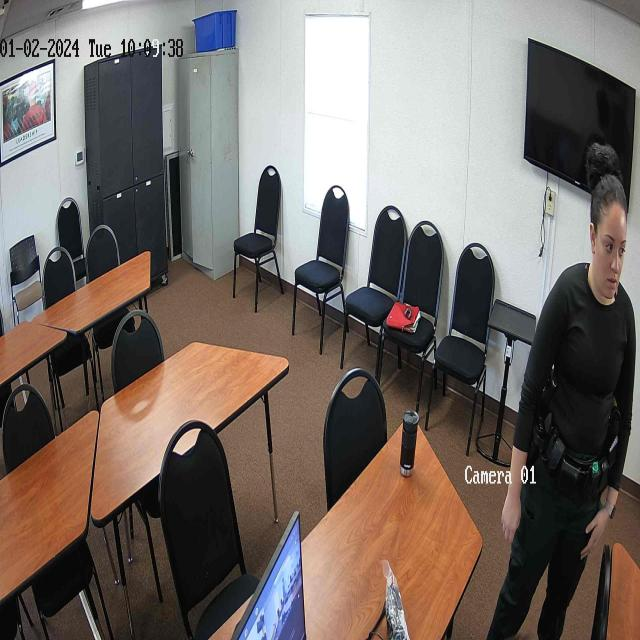weapon: (522, 402, 548, 478)
